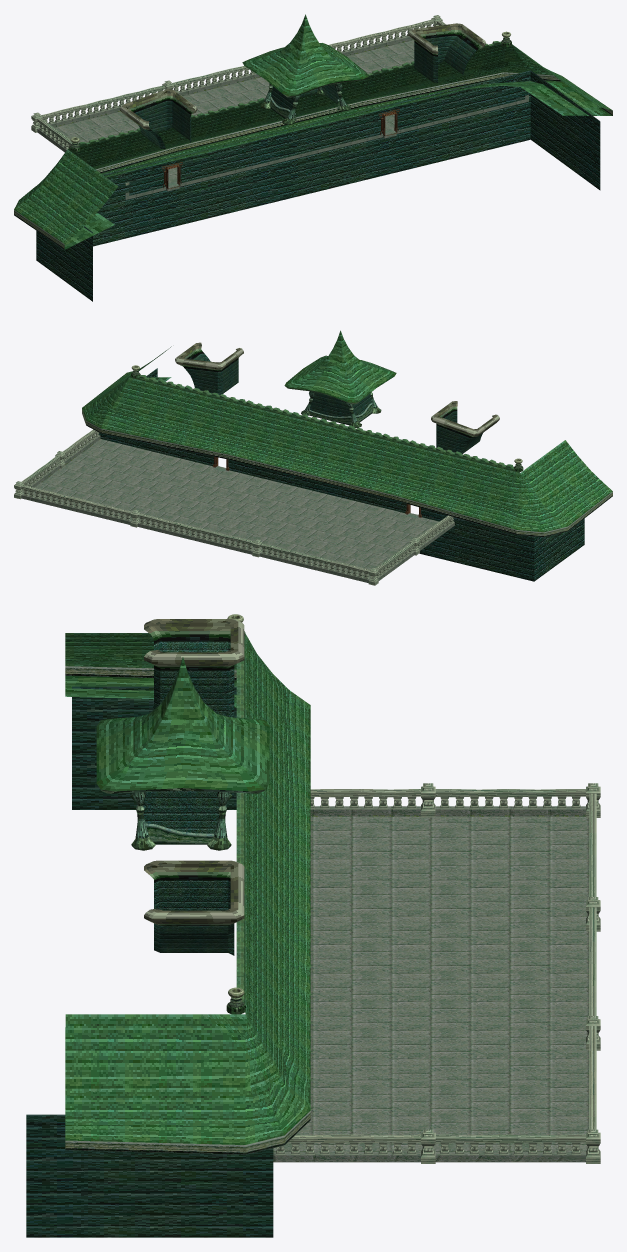
File: Balcony.dae
3 renders of one model, top to bottom at view 1: azimuth 30°, elevation 25°; view 2: azimuth 150°, elevation 25°; view 3: azimuth 270°, elevation 25°, orthographic. The views are drawn at different scales.
Visible parts, largest first — view 1: Batch_18.043, Batch_19.038, Batch_6.058, Batch_12.054, Batch_0.059, Batch_20.038, Batch_15.053, Batch_13.053, Batch_2.058, Batch_16.049, Batch_14.053, Batch_5.058 (+4 smaller); view 2: Batch_19.038, Batch_6.058, Batch_18.043, Batch_0.059, Batch_12.054, Batch_20.038, Batch_21.037, Batch_5.058, Batch_15.053, Batch_11.055, Batch_16.049, Batch_13.053 (+4 smaller); view 3: Batch_6.058, Batch_19.038, Batch_18.043, Batch_12.054, Batch_0.059, Batch_4.058, Batch_15.053, Batch_14.053, Batch_16.049, Batch_20.038, Batch_13.053, Batch_11.055 (+3 smaller).
Boxes of the visible parts, bbox=[...] form: Batch_18.043: bbox=[36, 70, 600, 301]; Batch_19.038: bbox=[14, 43, 612, 249]; Batch_6.058: bbox=[47, 39, 414, 187]; Batch_12.054: bbox=[242, 14, 368, 96]; Batch_0.059: bbox=[31, 15, 445, 185]; Batch_20.038: bbox=[14, 72, 612, 249]; Batch_15.053: bbox=[414, 35, 476, 82]; Batch_13.053: bbox=[134, 100, 191, 149]; Batch_2.058: bbox=[129, 99, 525, 198]; Batch_16.049: bbox=[408, 23, 485, 56]; Batch_14.053: bbox=[119, 89, 197, 130]; Batch_5.058: bbox=[48, 35, 412, 127]; Batch_19.038: bbox=[82, 346, 612, 532]; Batch_6.058: bbox=[28, 439, 446, 578]; Batch_18.043: bbox=[99, 368, 584, 581]; Batch_0.059: bbox=[14, 429, 453, 585]; Batch_12.054: bbox=[284, 330, 396, 402]; Batch_20.038: bbox=[82, 409, 612, 537]; Batch_21.037: bbox=[129, 375, 519, 472]; Batch_5.058: bbox=[21, 494, 370, 582]; Batch_15.053: bbox=[184, 353, 238, 395]; Batch_11.055: bbox=[310, 392, 371, 416]; Batch_16.049: bbox=[175, 342, 243, 371]; Batch_13.053: bbox=[436, 411, 482, 454]; Batch_6.058: bbox=[273, 816, 589, 1152]; Batch_19.038: bbox=[65, 633, 310, 1144]; Batch_18.043: bbox=[26, 686, 273, 1237]; Batch_12.054: bbox=[96, 657, 269, 791]; Batch_0.059: bbox=[276, 783, 600, 1163]; Batch_4.058: bbox=[273, 806, 586, 1162]; Batch_15.053: bbox=[154, 880, 234, 955]; Batch_14.053: bbox=[144, 619, 244, 670]; Batch_16.049: bbox=[144, 860, 244, 925]; Batch_20.038: bbox=[65, 666, 310, 1154]; Batch_13.053: bbox=[154, 641, 234, 717]; Batch_11.055: bbox=[143, 790, 219, 833].
Bounding box in the file's own units: 909 × 465 × 326.
Materials: 18 (18 with a texture image).
